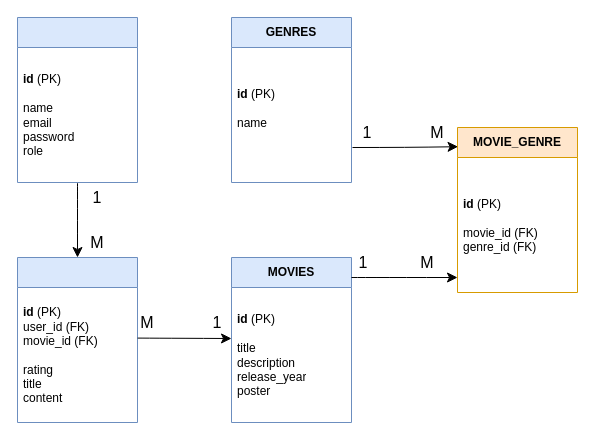
This 595x440 diagram has some shape labels left out. The shapes that lost their labels are listed below. From the top down, each one's box as (x1, y1, x2, y2) in pixels, then its label:
(16, 16, 138, 182): USERS
(16, 256, 138, 422): REVIEWS
